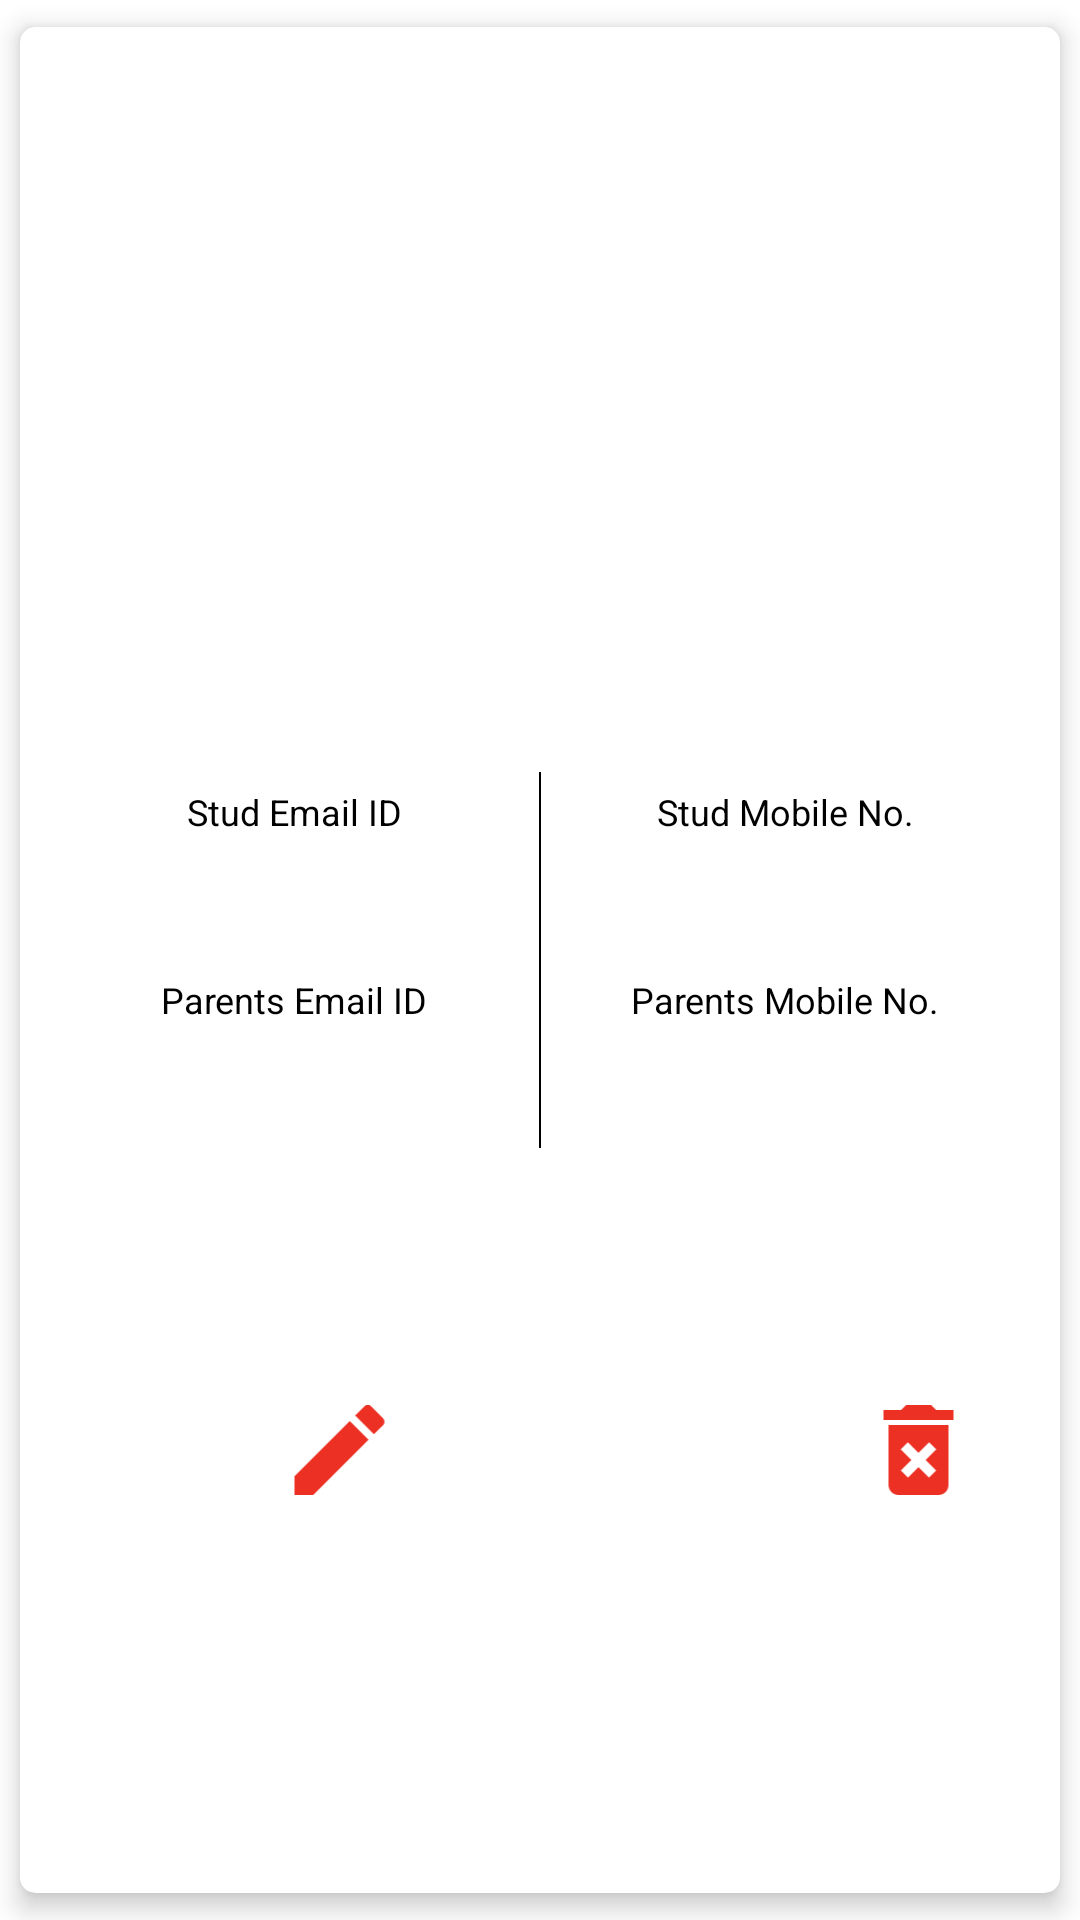

Screen size 1080*1920. Icon name, then its box in pixels as (x1, y1, x2, y2):
edit: (294, 1405, 385, 1495)
